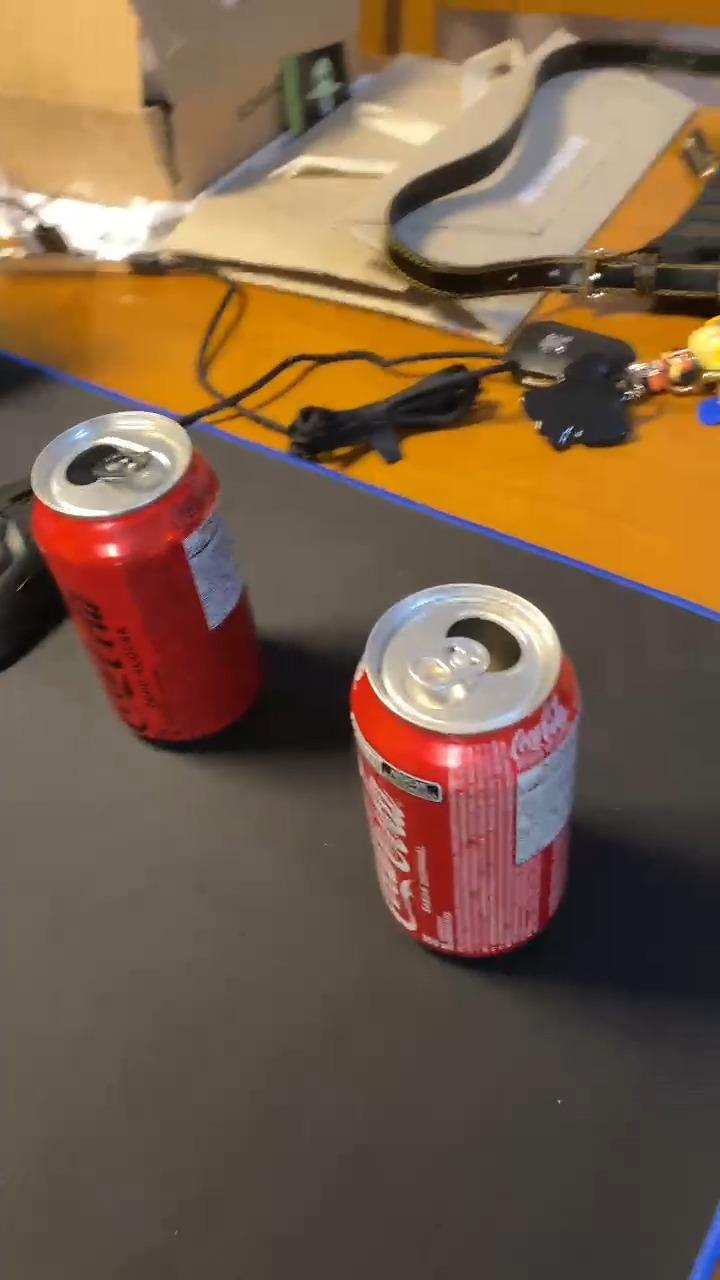coke: (352, 583, 581, 958), (24, 413, 267, 741)
